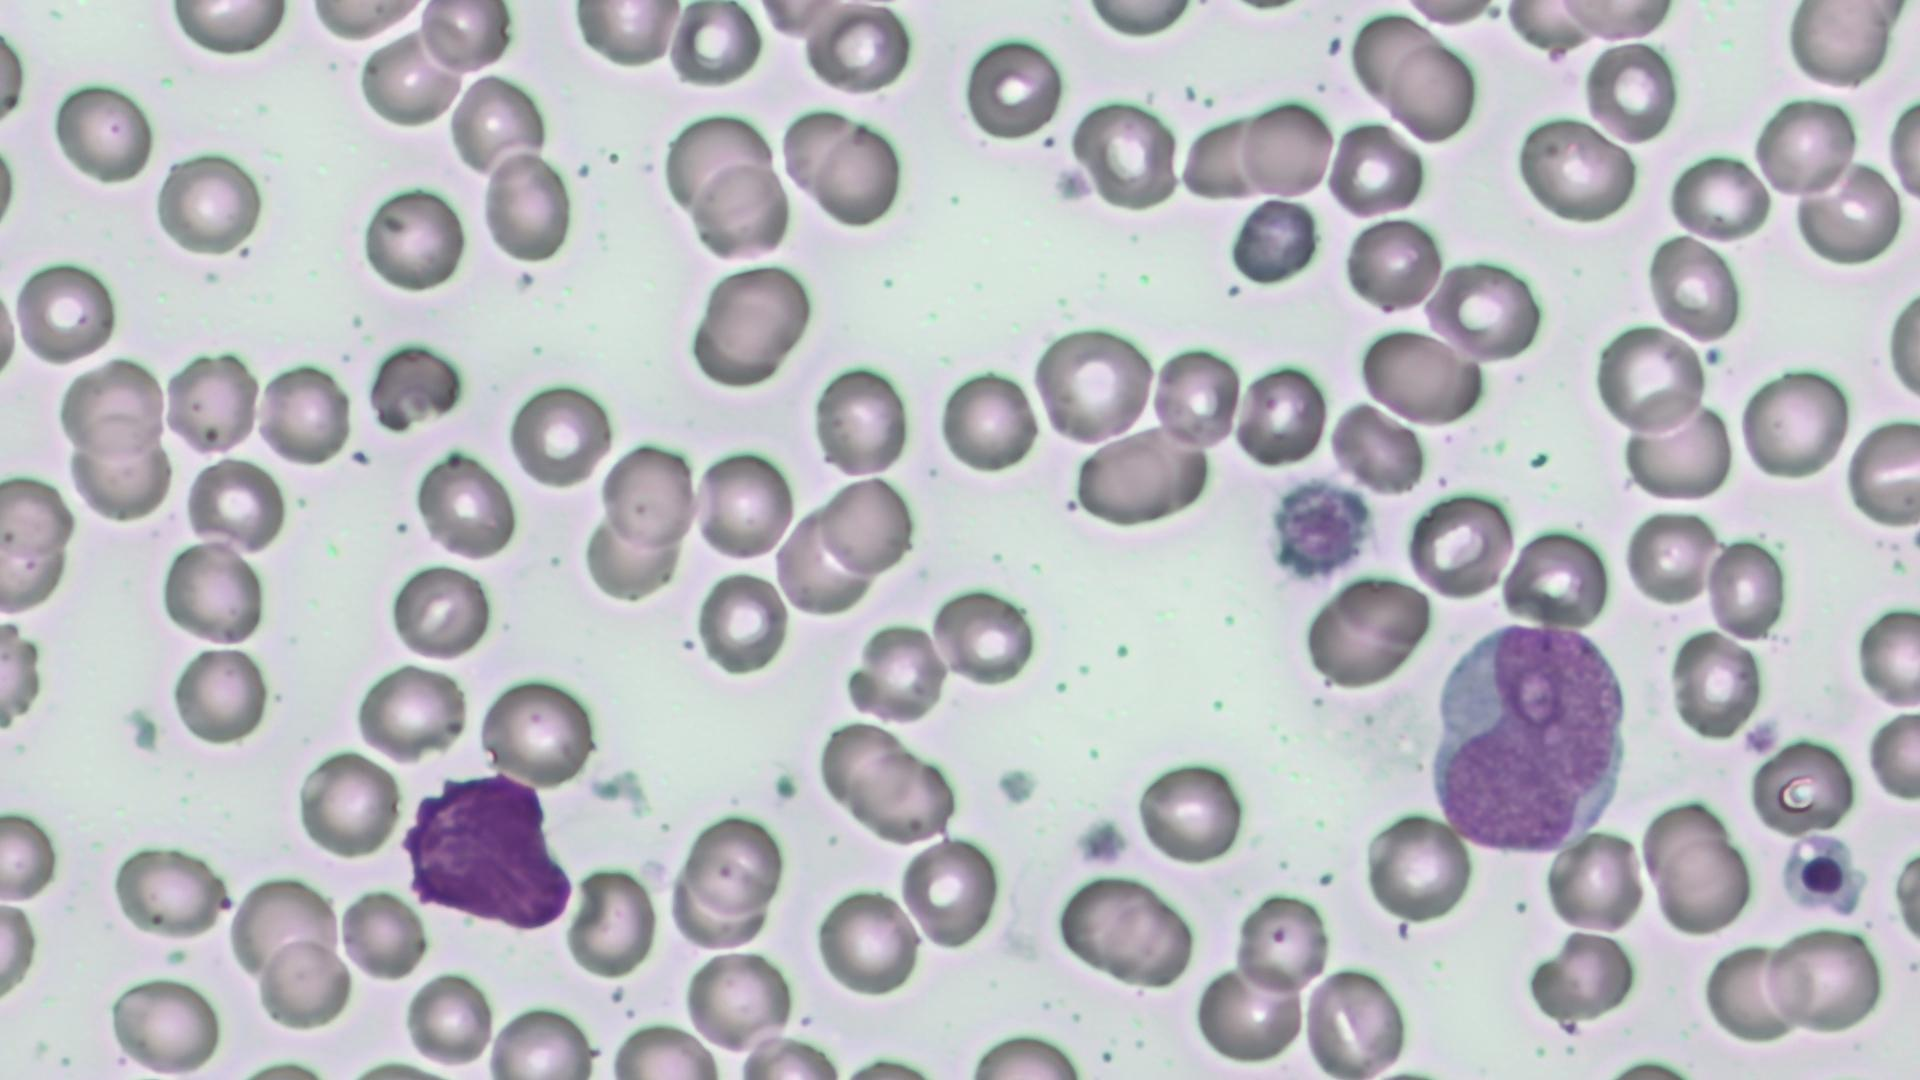Platelets: (1076, 814, 1131, 868), (117, 699, 165, 756), (993, 761, 1040, 808), (1702, 345, 1724, 367)
RBC: (1050, 874, 1194, 988), (1030, 320, 1156, 450), (1302, 572, 1430, 689), (476, 671, 598, 792), (694, 260, 814, 382), (1761, 920, 1887, 1034), (227, 873, 342, 992), (1514, 112, 1636, 224), (1737, 364, 1851, 483), (1592, 319, 1706, 438), (1363, 807, 1474, 927), (660, 111, 777, 223), (1074, 429, 1208, 526), (681, 945, 796, 1058), (842, 731, 958, 842), (1359, 325, 1482, 429), (1302, 962, 1412, 1076), (154, 148, 264, 262), (293, 746, 403, 860), (1426, 257, 1542, 365), (1134, 757, 1246, 868), (1072, 99, 1180, 214), (814, 884, 922, 999), (359, 180, 467, 295), (50, 76, 158, 190), (1192, 960, 1307, 1066), (692, 447, 795, 565), (900, 832, 1002, 951), (1405, 489, 1513, 601), (1746, 732, 1860, 838), (56, 355, 168, 462), (410, 448, 516, 561), (106, 971, 224, 1072), (12, 256, 119, 367), (160, 537, 267, 648), (355, 660, 467, 766), (961, 30, 1066, 143), (1540, 824, 1646, 935), (1794, 158, 1902, 266), (506, 380, 612, 490), (109, 840, 225, 940), (1502, 525, 1610, 632), (937, 364, 1039, 476), (598, 441, 698, 555), (1623, 398, 1734, 500), (562, 861, 656, 981), (1668, 628, 1764, 745), (774, 504, 873, 617), (163, 346, 261, 460), (578, 502, 687, 604), (254, 358, 353, 470), (387, 560, 494, 663), (1232, 889, 1334, 997), (846, 618, 948, 725), (1231, 358, 1328, 470), (1524, 928, 1638, 1023), (480, 149, 572, 266), (813, 364, 909, 476), (0, 471, 74, 616), (1702, 939, 1804, 1044), (814, 719, 920, 820), (684, 812, 786, 916), (1646, 234, 1742, 344), (1782, 0, 1899, 90), (932, 586, 1035, 688), (449, 69, 548, 175), (1754, 94, 1852, 201), (1150, 341, 1242, 454), (1238, 94, 1334, 202), (1582, 38, 1678, 146), (1341, 216, 1444, 316), (365, 338, 464, 442), (818, 473, 916, 578), (357, 32, 463, 129), (168, 645, 267, 748), (180, 453, 284, 551), (65, 430, 174, 523), (696, 569, 789, 678), (1324, 117, 1426, 216), (814, 118, 904, 229), (691, 161, 790, 261), (1620, 505, 1716, 608), (403, 968, 497, 1072), (666, 860, 771, 953), (802, 5, 909, 96), (1666, 152, 1772, 243), (1704, 534, 1791, 644), (1653, 837, 1752, 932), (1387, 40, 1475, 145), (258, 933, 354, 1029), (336, 885, 429, 982), (776, 108, 869, 204), (1178, 113, 1274, 203), (665, 1, 763, 89), (1844, 415, 1918, 530), (486, 1002, 597, 1078), (1229, 196, 1319, 284), (571, 1, 687, 69), (163, 1, 295, 57), (1854, 602, 1920, 709), (415, 2, 512, 74), (603, 1020, 721, 1077), (0, 807, 59, 904), (1864, 705, 1918, 806), (1880, 283, 1920, 416), (303, 0, 426, 41), (1887, 824, 1920, 966), (0, 896, 40, 1010), (1884, 92, 1920, 217), (1558, 2, 1678, 39), (1078, 0, 1198, 36), (1396, 0, 1502, 28)
WBC: (1426, 615, 1636, 860), (398, 772, 584, 928)
